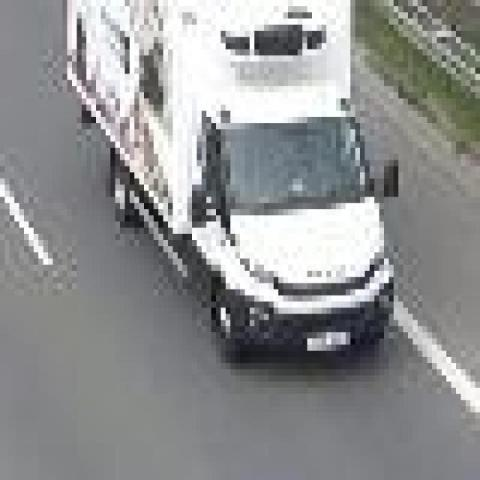van: (68, 0, 394, 363)
